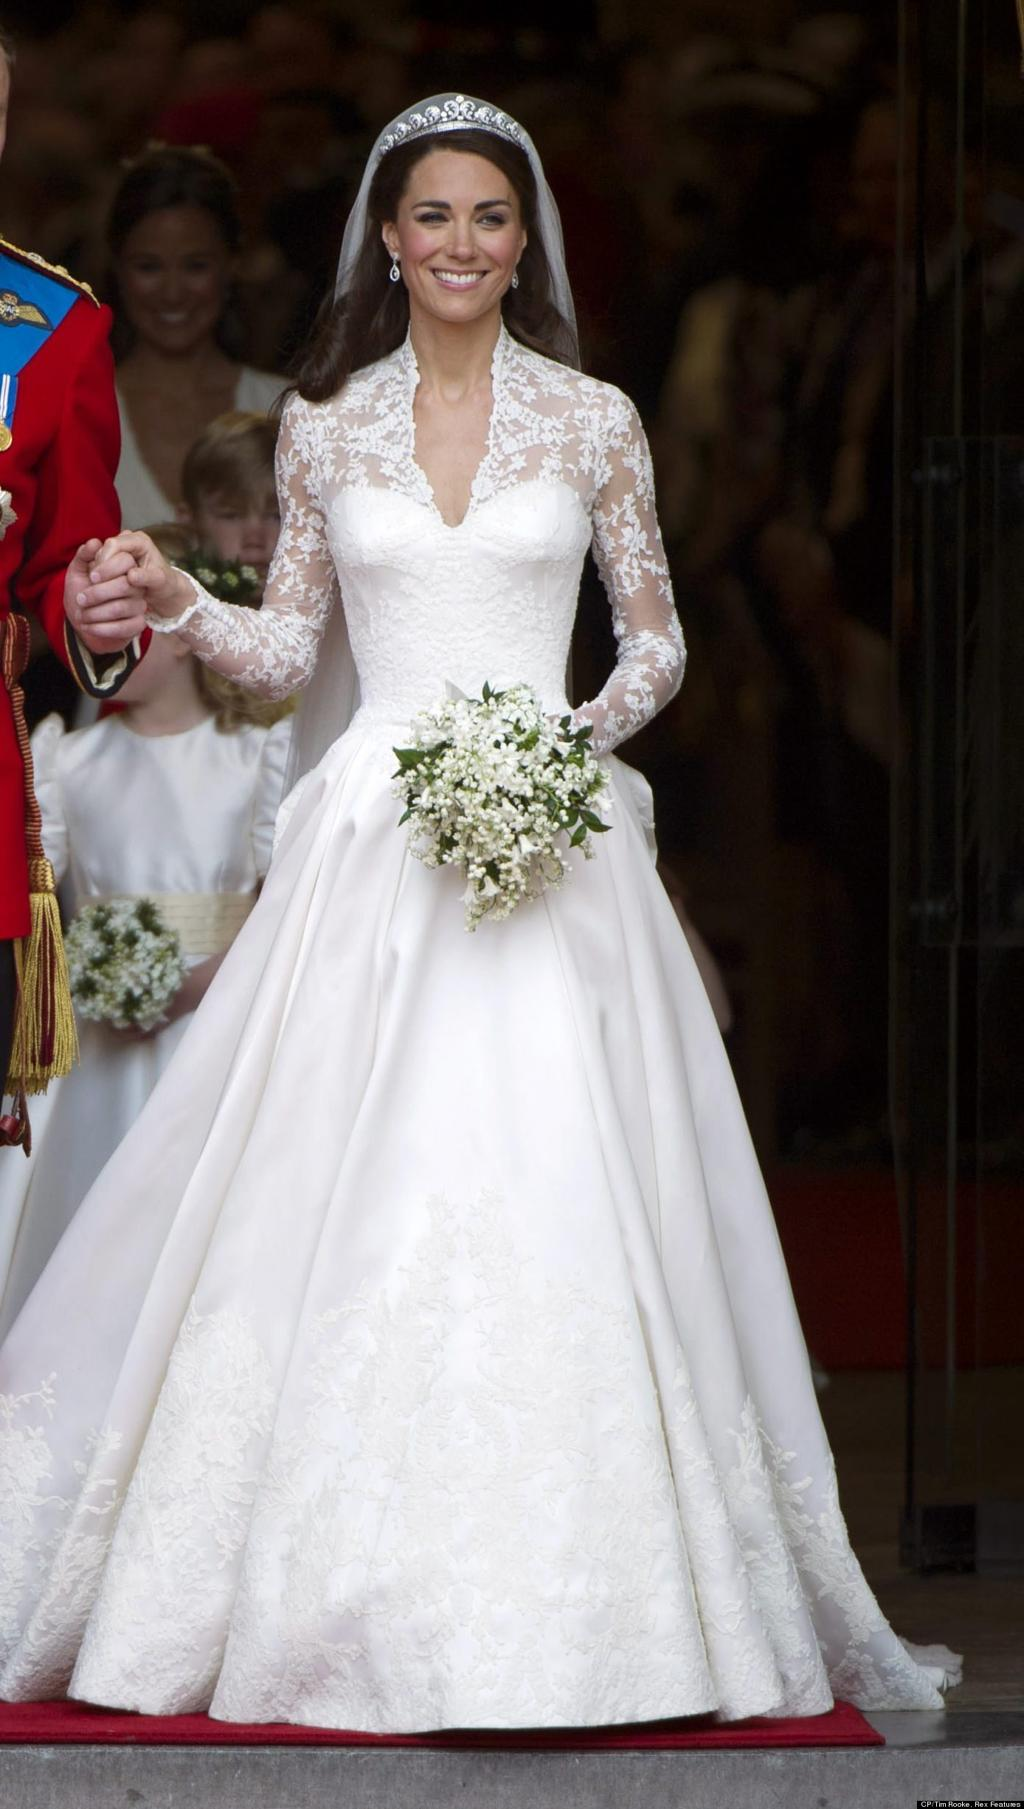face: (385, 148, 519, 314), (113, 212, 230, 357)
